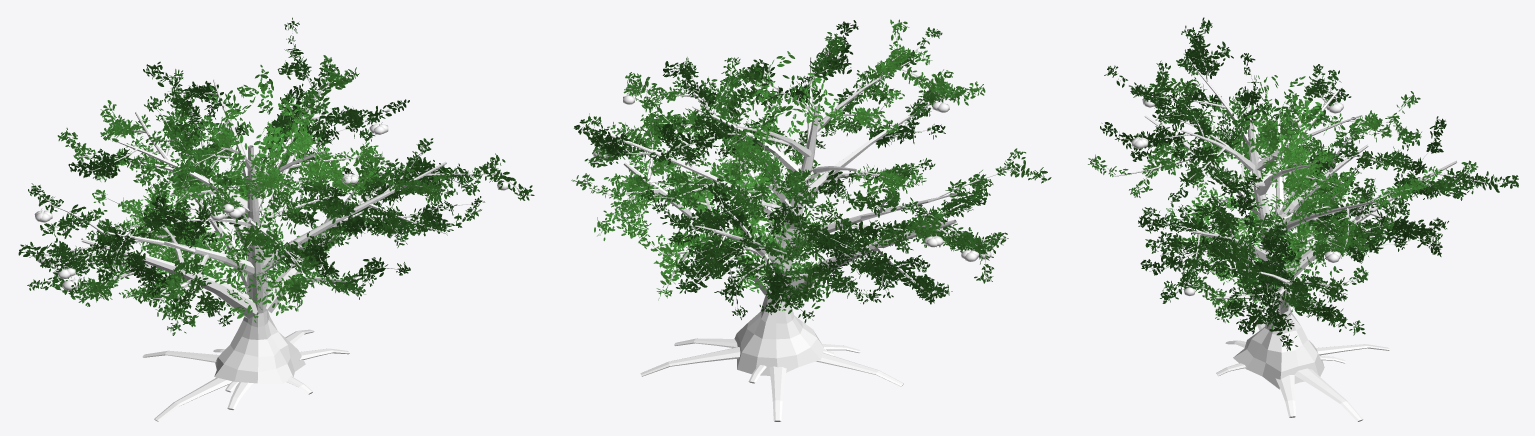
File: elma_agaci.glb
3 views of the same model, side by side, from view 1: azimuth 30°, elevation 25°; view 2: azimuth 150°, elevation 25°; view 3: azimuth 270°, elevation 25° (orthographic). The views are drawn at different scales.
Visible parts, largest first — view 1: AppleTree_Leaves, AppleTree_Wood, AppleTree_Apples; view 2: AppleTree_Leaves, AppleTree_Wood, AppleTree_Apples; view 3: AppleTree_Leaves, AppleTree_Wood, AppleTree_Apples.
Boxes of the visible parts, bbox=[...] form: AppleTree_Leaves: bbox=[18, 17, 534, 335]; AppleTree_Wood: bbox=[27, 27, 524, 421]; AppleTree_Apples: bbox=[34, 122, 508, 290]; AppleTree_Leaves: bbox=[571, 19, 1051, 322]; AppleTree_Wood: bbox=[582, 30, 1036, 421]; AppleTree_Apples: bbox=[593, 51, 993, 261]; AppleTree_Leaves: bbox=[1088, 17, 1518, 350]; AppleTree_Wood: bbox=[1094, 38, 1503, 421]; AppleTree_Apples: bbox=[1131, 87, 1343, 296].
Size of the model in its own units: 5.11 by 3.6 by 4.45.
4 materials, 1 textured.
